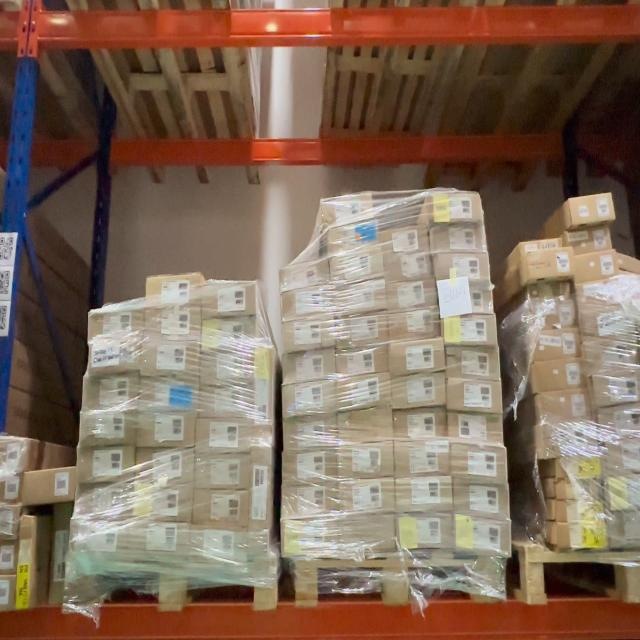box: (248, 446, 272, 556), (128, 524, 193, 561), (195, 417, 262, 452), (336, 478, 397, 514), (200, 352, 262, 387), (336, 518, 396, 554), (131, 486, 193, 520), (142, 342, 200, 378), (140, 378, 198, 413), (456, 521, 512, 557), (202, 280, 258, 316), (78, 447, 134, 483), (192, 527, 248, 563), (198, 387, 265, 417), (84, 376, 139, 412), (144, 304, 199, 340), (283, 522, 335, 560), (138, 414, 196, 448), (136, 449, 194, 483), (540, 423, 599, 456), (339, 442, 393, 478), (197, 453, 251, 489), (449, 410, 504, 445), (455, 485, 510, 520), (202, 316, 258, 350), (583, 337, 639, 371), (452, 446, 506, 481), (398, 478, 453, 512), (81, 413, 136, 447), (70, 524, 128, 556), (438, 281, 494, 314), (448, 380, 502, 414), (400, 517, 454, 551), (391, 339, 445, 373), (195, 490, 249, 524), (446, 348, 499, 382), (147, 272, 200, 306), (530, 327, 580, 363), (397, 443, 451, 476), (580, 305, 634, 338), (284, 483, 336, 517), (48, 506, 66, 604), (329, 250, 384, 282), (284, 449, 337, 482), (340, 409, 393, 442), (339, 376, 392, 409), (284, 382, 337, 415), (393, 375, 446, 408), (393, 408, 447, 440), (282, 318, 336, 350), (592, 371, 640, 407), (93, 306, 145, 339), (24, 470, 76, 503), (337, 312, 387, 346), (283, 418, 336, 450), (445, 315, 498, 347), (335, 280, 388, 312), (532, 360, 585, 392), (540, 392, 594, 423), (284, 350, 336, 382), (91, 342, 143, 374), (432, 190, 482, 223), (78, 486, 130, 517), (282, 288, 334, 318), (435, 252, 490, 280), (390, 310, 440, 340), (330, 222, 381, 251), (325, 196, 376, 225), (388, 280, 437, 310), (18, 513, 33, 611), (433, 224, 485, 252), (522, 248, 570, 278), (569, 194, 613, 226), (529, 300, 576, 329), (339, 347, 389, 374), (600, 407, 640, 440), (283, 260, 330, 288), (571, 251, 616, 280), (604, 441, 640, 477), (386, 253, 432, 280), (578, 279, 624, 306), (555, 526, 606, 550), (382, 226, 427, 253), (605, 478, 640, 512), (607, 511, 640, 547), (566, 226, 612, 250), (556, 456, 602, 479), (559, 501, 602, 524), (528, 281, 571, 304), (556, 480, 602, 501), (0, 439, 28, 473), (620, 278, 640, 310), (1, 474, 22, 504), (1, 506, 19, 540), (0, 576, 16, 610), (0, 542, 17, 573), (615, 254, 640, 274)
